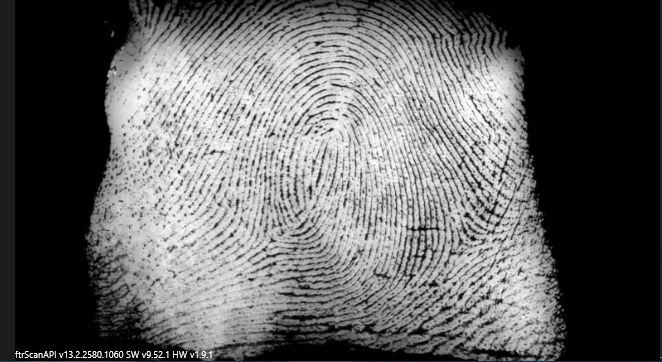nucelo: (319, 126, 343, 184)
verticilo: (446, 227, 478, 259), (256, 228, 285, 249)
